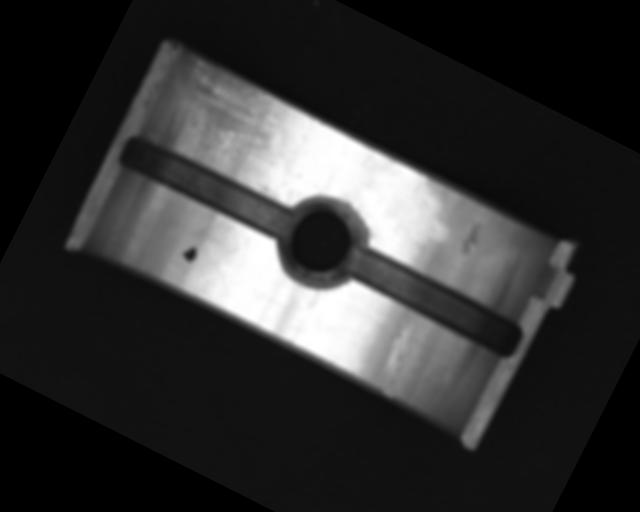blot: (179, 242, 201, 265)
bruise: (453, 217, 488, 260)
gap: (338, 239, 528, 363), (115, 128, 301, 247)
hole: (263, 183, 378, 301)
nick: (369, 317, 427, 398)
scratch: (143, 48, 300, 190)
